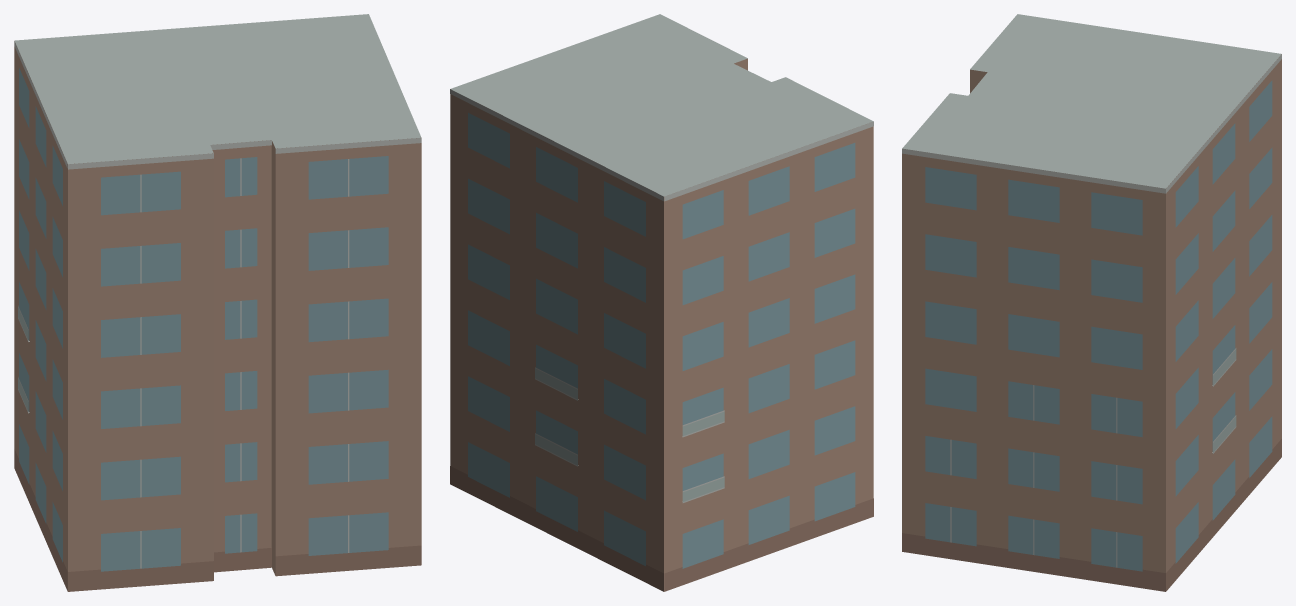
File: survey-upis-32851871.glb
3 renders of one model, left to right at view 1: azimuth 30°, elevation 25°; view 2: azimuth 150°, elevation 25°; view 3: azimuth 270°, elevation 25°, orthographic. The views are drawn at different scales.
Parts seen in each view (by area): view 1: survey-upis-32851871.tmp; view 2: survey-upis-32851871.tmp; view 3: survey-upis-32851871.tmp.
Boxes of the visible parts, x1,y1,x2,y2 form: survey-upis-32851871.tmp: (14,14,421,591); survey-upis-32851871.tmp: (450,14,873,591); survey-upis-32851871.tmp: (902,14,1281,591).
Bounding box in the file's own units: 18.17 × 19.55 × 16.7.
